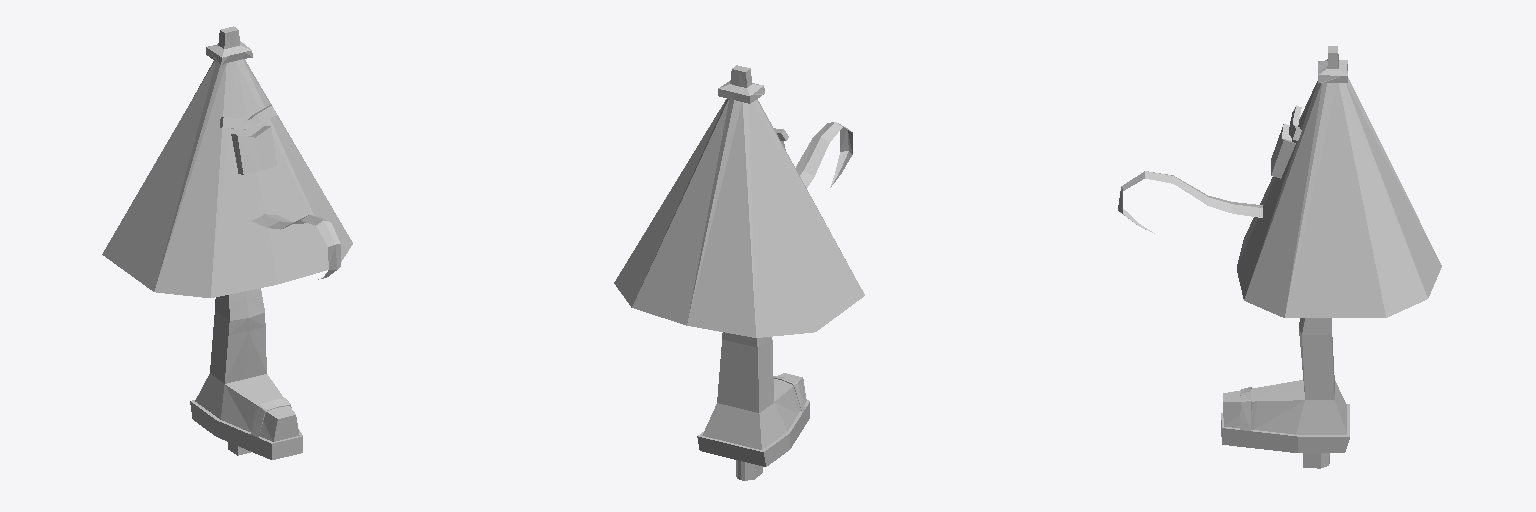
The model's file is big_boy.obj.
The picture shows the model from 3 angles: view 1: azimuth 30°, elevation 25°; view 2: azimuth 150°, elevation 25°; view 3: azimuth 270°, elevation 25°; orthographic projection.
Parts seen in each view (by area): view 1: Plane.001, Plane, Cube_Cube.001, Plane.002; view 2: Plane.001, Plane, Plane.002; view 3: Plane.001, Plane, Plane.002, Cube_Cube.001.
Part boxes in pixels (bbox=[...]): Plane.001: bbox=[102, 26, 352, 297]; Plane: bbox=[190, 288, 302, 459]; Cube_Cube.001: bbox=[220, 105, 276, 174]; Plane.002: bbox=[252, 214, 340, 279]; Plane.001: bbox=[614, 65, 864, 337]; Plane: bbox=[697, 332, 809, 480]; Plane.002: bbox=[796, 122, 852, 187]; Plane.001: bbox=[1237, 46, 1441, 317]; Plane: bbox=[1221, 318, 1349, 468]; Plane.002: bbox=[1118, 171, 1262, 233]; Cube_Cube.001: bbox=[1271, 105, 1301, 178].
Size of the model in its own units: 0.9895 by 1.94 by 1.38.